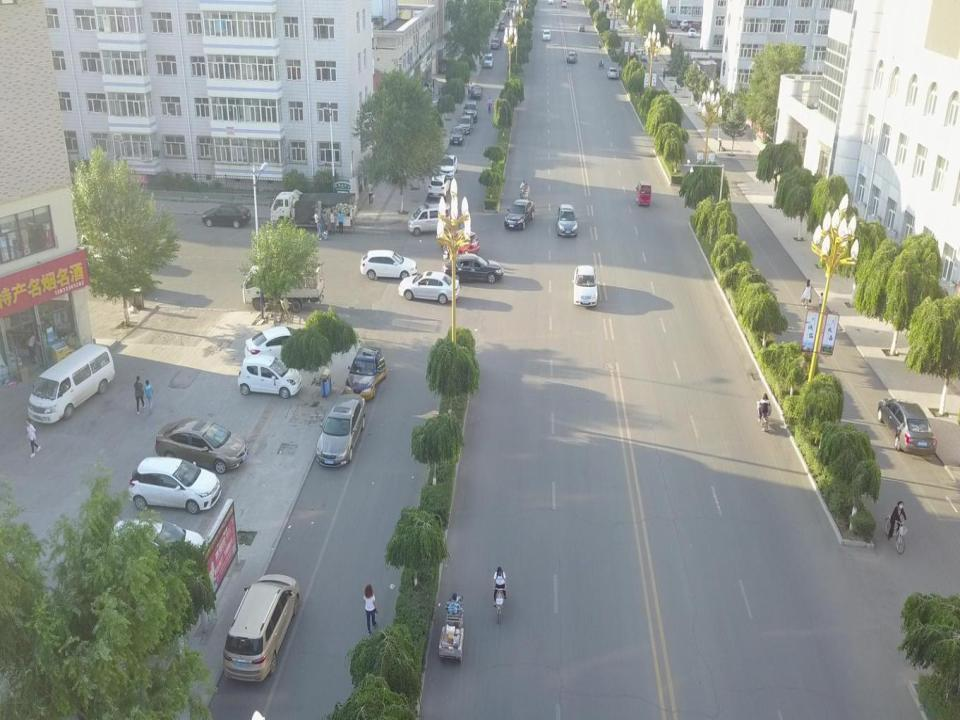car: (222, 575, 300, 682), (105, 519, 206, 577), (126, 454, 222, 514), (154, 416, 249, 474), (315, 393, 366, 467), (242, 325, 327, 369), (876, 398, 938, 458), (238, 353, 303, 398), (342, 346, 388, 398), (398, 270, 460, 304), (360, 251, 419, 280), (443, 254, 504, 282), (200, 202, 251, 230), (571, 264, 599, 307), (440, 230, 480, 257), (504, 198, 535, 229), (556, 204, 578, 236), (426, 174, 452, 201), (437, 154, 458, 179), (456, 114, 474, 134), (462, 100, 478, 122), (450, 125, 464, 145), (467, 85, 483, 99), (680, 23, 699, 31), (566, 51, 578, 63), (607, 67, 618, 79), (490, 38, 500, 50), (542, 29, 551, 40), (688, 27, 696, 38), (498, 21, 506, 31), (668, 20, 678, 28), (578, 23, 584, 32)
truck: (242, 257, 326, 314), (270, 189, 358, 233)
van: (28, 342, 115, 426), (406, 201, 452, 236), (438, 56, 450, 74), (483, 52, 493, 68), (560, 0, 567, 8)
